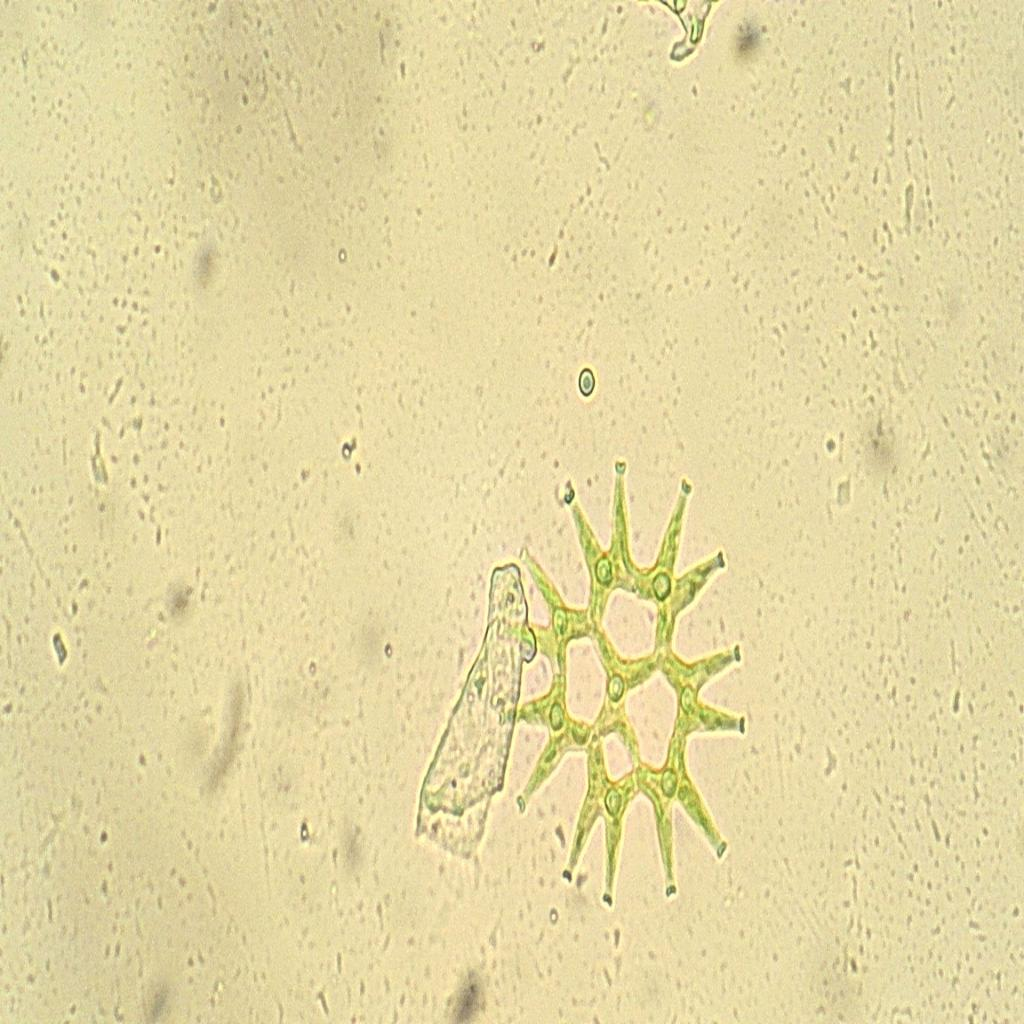Pediastrum_75T: (480, 433, 764, 920)
